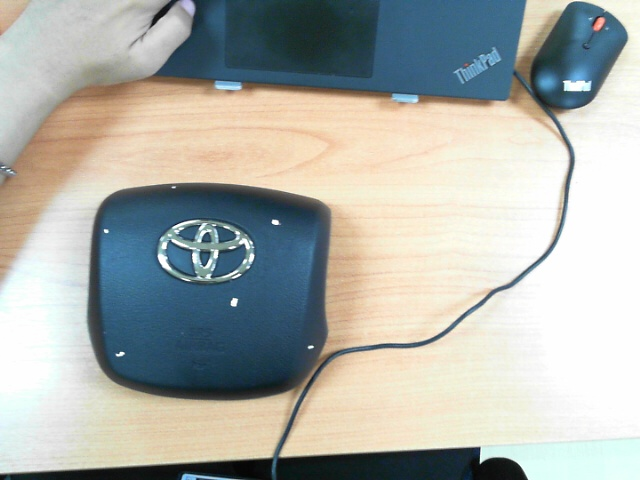Airbag: (230, 297, 240, 307), (271, 219, 282, 226), (115, 352, 125, 357), (103, 228, 110, 234), (307, 345, 315, 350), (171, 186, 176, 189)
